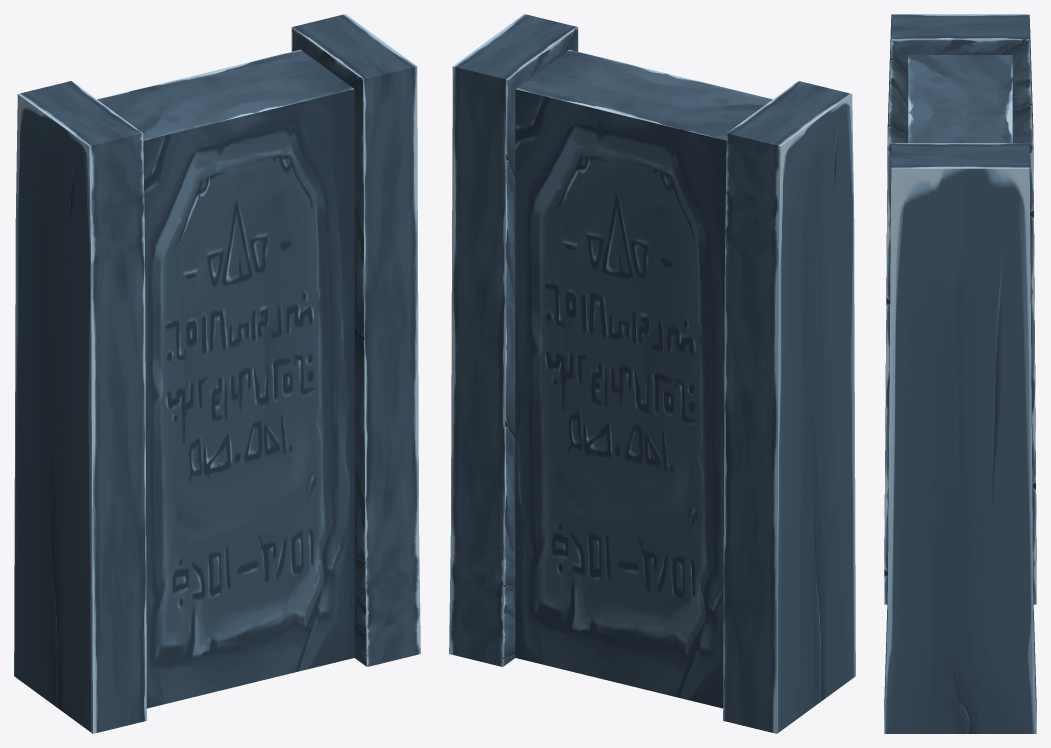
File: SM_PROP_gravestone_v04_01.fbx
The picture shows the model from 3 angles, left to right: view 1: azimuth 30°, elevation 25°; view 2: azimuth 150°, elevation 25°; view 3: azimuth 270°, elevation 25°; orthographic projection. The views are drawn at different scales.
Visible parts, largest first — view 1: SM_PROP_gravestone_v04_01; view 2: SM_PROP_gravestone_v04_01; view 3: SM_PROP_gravestone_v04_01.
Part boxes in pixels (x1,y1,x2,y2): SM_PROP_gravestone_v04_01: (14, 14, 420, 733); SM_PROP_gravestone_v04_01: (449, 14, 855, 733); SM_PROP_gravestone_v04_01: (884, 14, 1036, 733).
Bounding box in the file's own units: 74.05 × 126 × 30.88.
